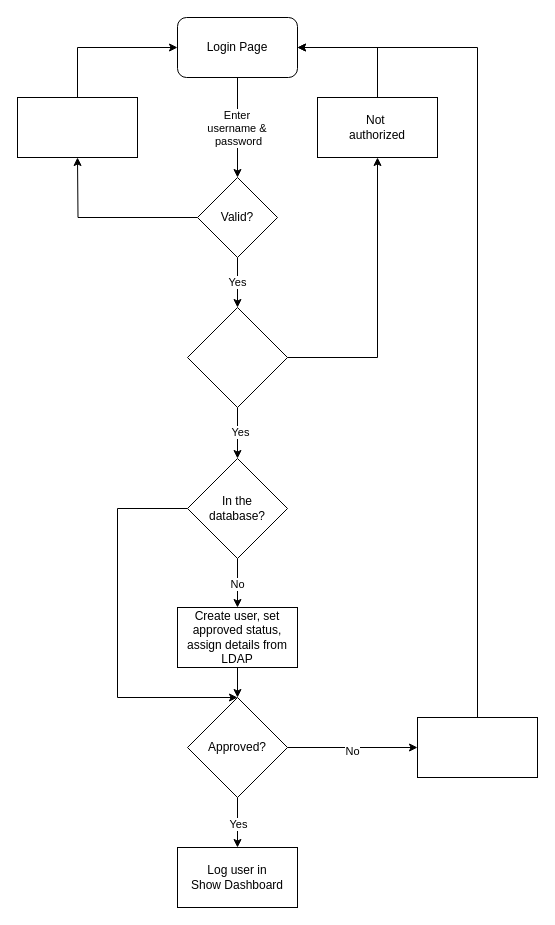
The diagram is 555 pixels wide and 925 high, and some of its shapes have lost their labels. The shapes that lost their labels are listed below. From the top down, each one's centre as x and y in pixels, then its label:
At (77,127): "Invalid username or password".
At (237,357): "In Clinical or Readonly Group?".
At (477,747): "Wait to be approved".
